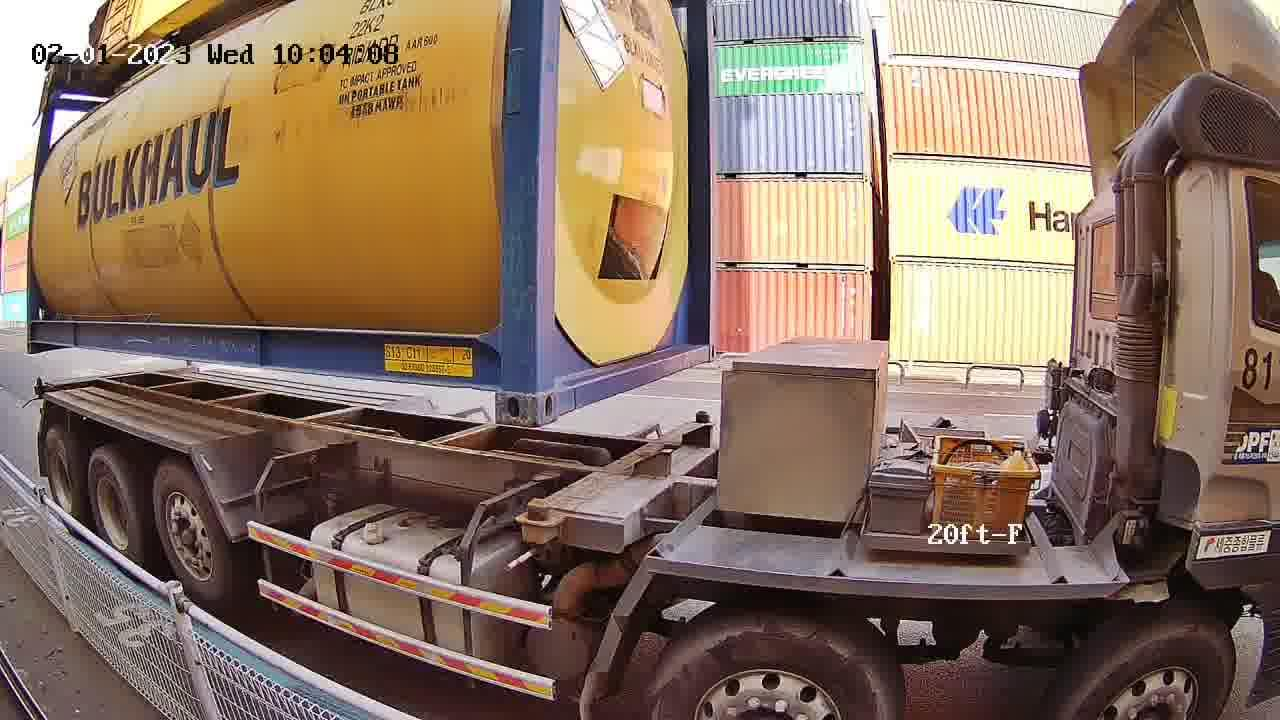Chassis: (517, 421, 719, 528)
Cone: (518, 496, 560, 562), (689, 410, 715, 427)
Hole_L: (540, 353, 583, 427)
Hole_R: (468, 363, 539, 425), (697, 322, 718, 363)
Tire: (153, 465, 231, 601), (88, 449, 149, 579), (44, 426, 83, 527)
